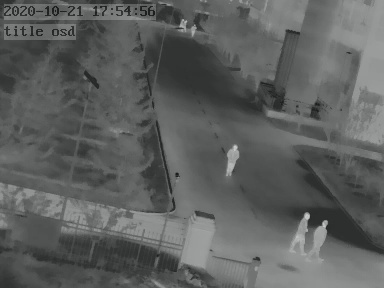person: (290, 209, 308, 256), (310, 212, 326, 260), (224, 141, 238, 175), (189, 22, 197, 37), (180, 17, 186, 33)
